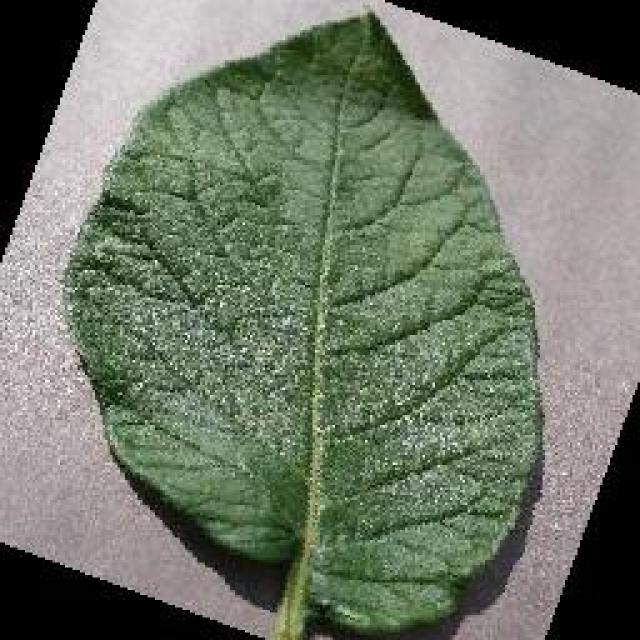Potato___healthy: (60, 11, 542, 637)
